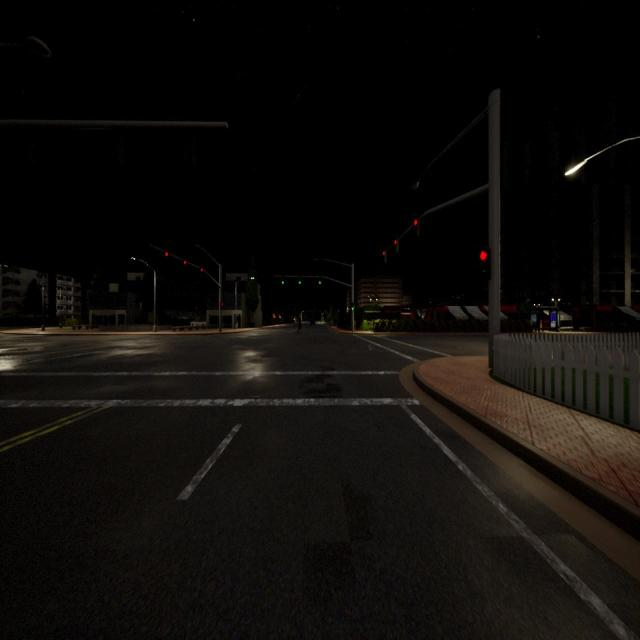traffic_light: (478, 247, 491, 282), (382, 250, 387, 264), (394, 240, 399, 252), (414, 219, 418, 227), (220, 302, 223, 310), (299, 276, 301, 285), (282, 276, 284, 284), (319, 277, 321, 285), (352, 302, 354, 310), (165, 252, 168, 256), (184, 260, 186, 264), (201, 268, 203, 271)
